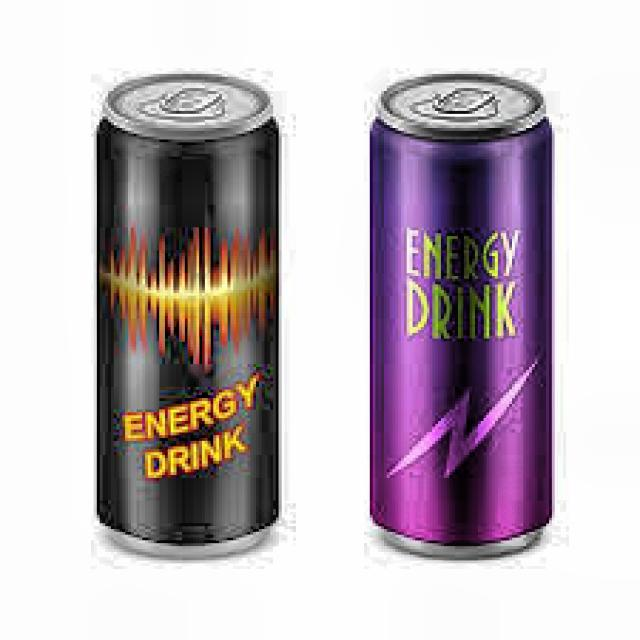can: (360, 62, 566, 586), (85, 63, 294, 567)
